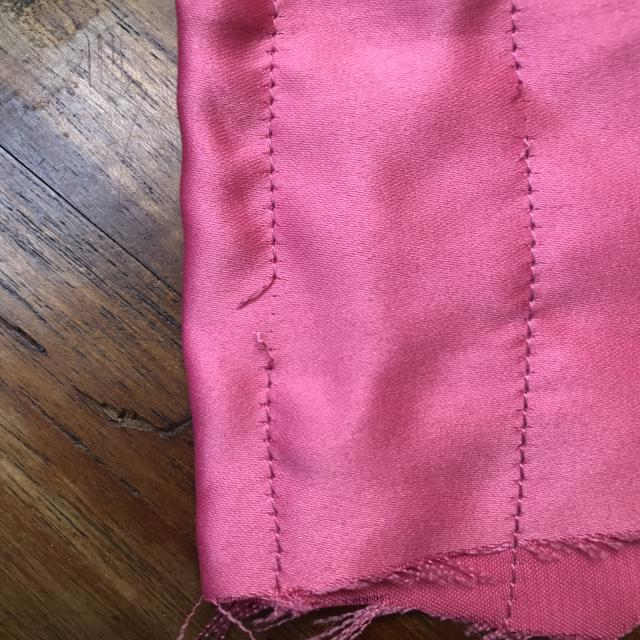broken: (222, 256, 306, 381)
